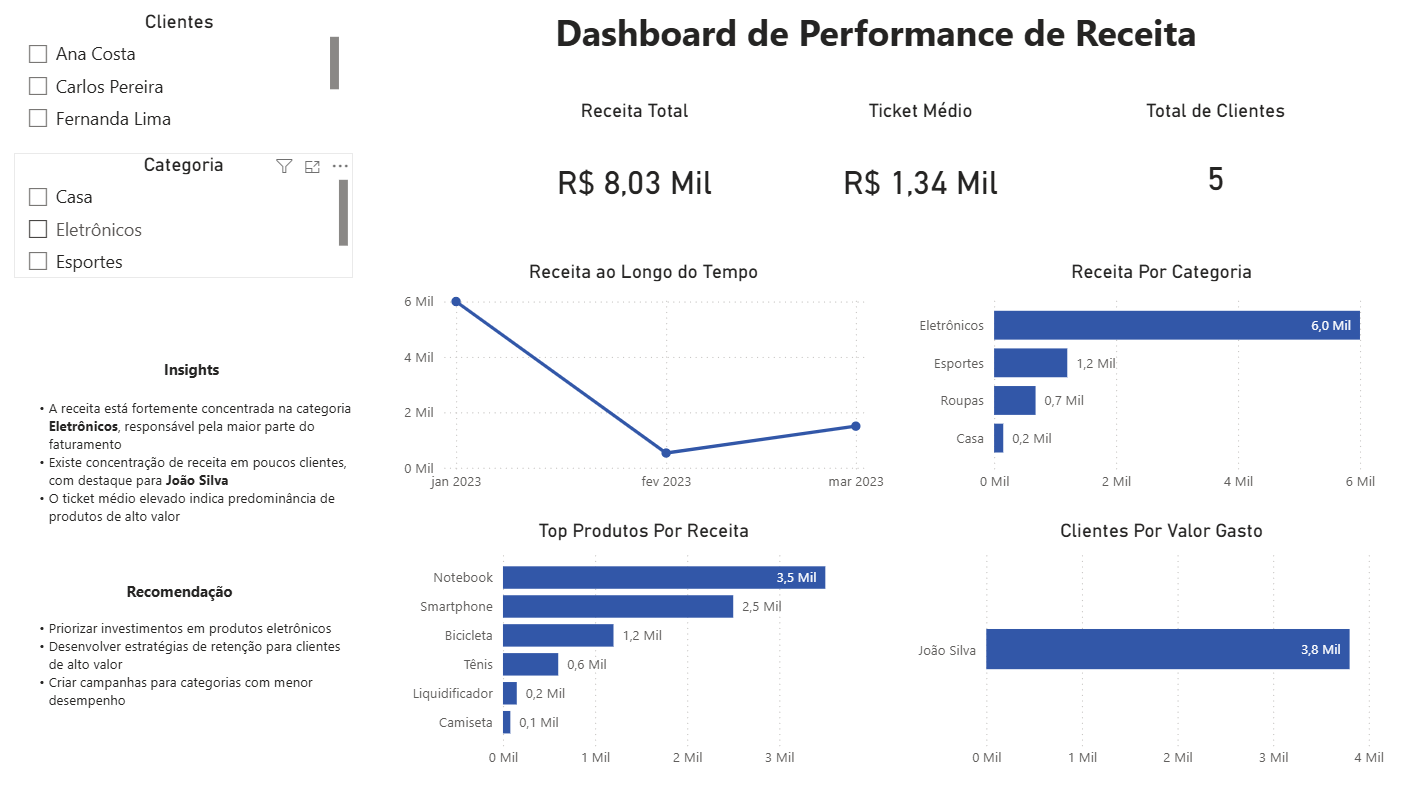

Layout of this report page (visuals, bound fields, positions):
{"tool":"powerbi","page":{"name":"Página 1","canvas":[1280,720],"ordinal":0},"visuals":[{"type":"card","title":"Receita Total","fields":{"Values":["public vw_revenue_by_month.Receita Total"]},"box":[448,96,248,128],"z":0},{"type":"card","title":"Ticket Médio","fields":{"Values":["public vw_revenue_by_month.Ticket Médio"]},"box":[704,96,248,128],"z":1000},{"type":"card","title":"Total de Clientes","fields":{"Values":["public vw_revenue_by_month.Total de Clientes"]},"box":[968,96,248,120],"z":2000},{"type":"lineChart","title":"Receita ao Longo do Tempo","fields":{"Category":["public vw_revenue_by_month.month"],"Y":["Sum(public vw_revenue_by_month.revenue)"]},"box":[360,240,440,216],"z":3000},{"type":"clusteredBarChart","title":"Receita Por Categoria","fields":{"Category":["public vw_revenue_by_category.category_name"],"Y":["Sum(public vw_revenue_by_category.revenue)"]},"box":[816,240,456,216],"z":4000},{"type":"clusteredBarChart","title":"Top Produtos Por Receita","fields":{"Category":["public vw_top_products.product_name"],"Y":["Sum(public vw_top_products.revenue)"]},"box":[360,472,440,232],"z":5000},{"type":"clusteredBarChart","title":"Clientes Por Valor Gasto","fields":{"Category":["public vw_customer_revenue.customer_name"],"Y":["Sum(public vw_customer_revenue.total_spent)"]},"box":[816,472,456,232],"z":6000},{"type":"textbox","box":[24,288,304,400],"z":7000},{"type":"slicer","title":"Categoria","fields":{"Values":["public vw_revenue_by_category.category_name"]},"box":[16,144,304,112],"z":8000},{"type":"textbox","box":[352,8,872,80],"z":9000},{"type":"slicer","title":"Clientes","fields":{"Values":["public vw_customer_revenue.customer_name"]},"box":[16,16,296,112],"z":10000}]}

Visuals, with their boxes in screenshot pixels (x1, y1, x2, y2), scaled from the page's 1280x720 canvas onto the 1419x793 screenshot:
"Receita Total" card: bbox(497, 106, 772, 247)
"Ticket Médio" card: bbox(780, 106, 1055, 247)
"Total de Clientes" card: bbox(1073, 106, 1348, 238)
"Receita ao Longo do Tempo" lineChart: bbox(399, 264, 887, 502)
"Receita Por Categoria" clusteredBarChart: bbox(905, 264, 1410, 502)
"Top Produtos Por Receita" clusteredBarChart: bbox(399, 520, 887, 775)
"Clientes Por Valor Gasto" clusteredBarChart: bbox(905, 520, 1410, 775)
textbox: bbox(27, 317, 364, 758)
"Categoria" slicer: bbox(18, 159, 355, 282)
textbox: bbox(390, 9, 1357, 97)
"Clientes" slicer: bbox(18, 18, 346, 141)
